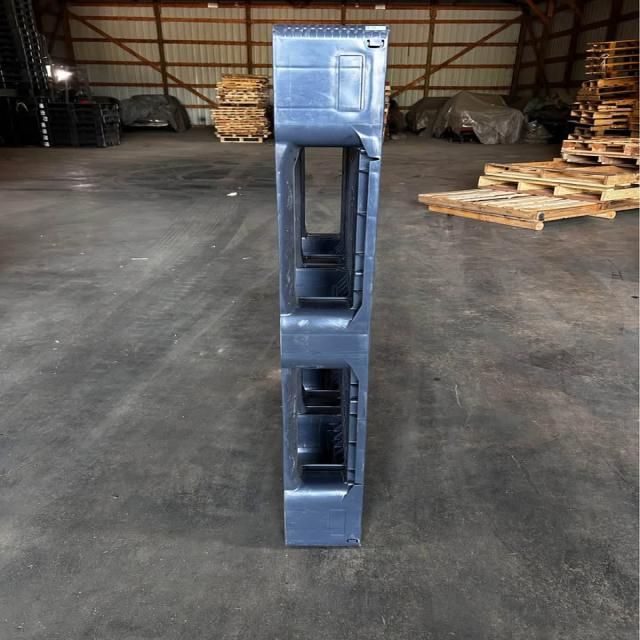non-igps: (266, 18, 396, 553), (414, 185, 640, 224), (474, 173, 640, 206), (478, 157, 640, 190), (559, 135, 640, 158), (558, 151, 640, 169), (564, 117, 639, 133), (568, 124, 640, 139), (565, 114, 639, 128), (576, 82, 639, 98), (580, 75, 639, 92), (580, 36, 640, 51), (575, 90, 639, 104), (574, 96, 639, 109), (578, 102, 639, 115), (568, 109, 639, 120), (585, 46, 639, 60), (565, 132, 633, 142), (583, 62, 639, 74), (584, 54, 639, 66), (592, 69, 639, 82), (215, 101, 268, 109), (216, 132, 268, 140), (218, 136, 263, 144)
